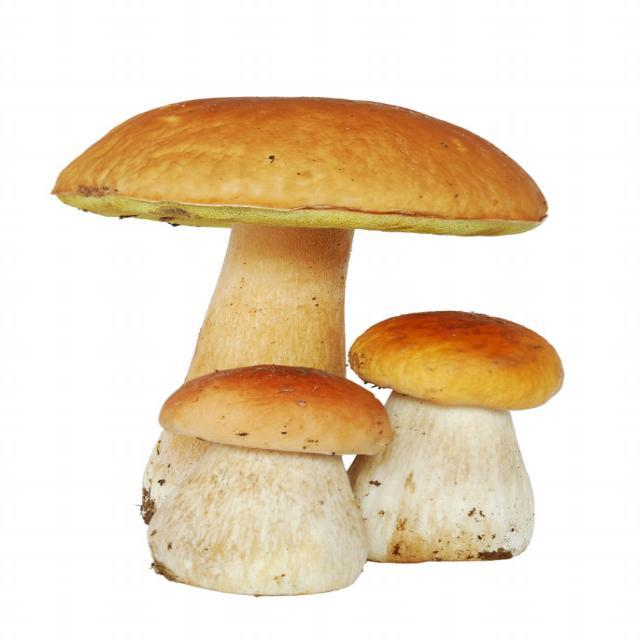Boletus: (55, 98, 577, 379), (148, 359, 372, 597), (352, 311, 561, 559)
